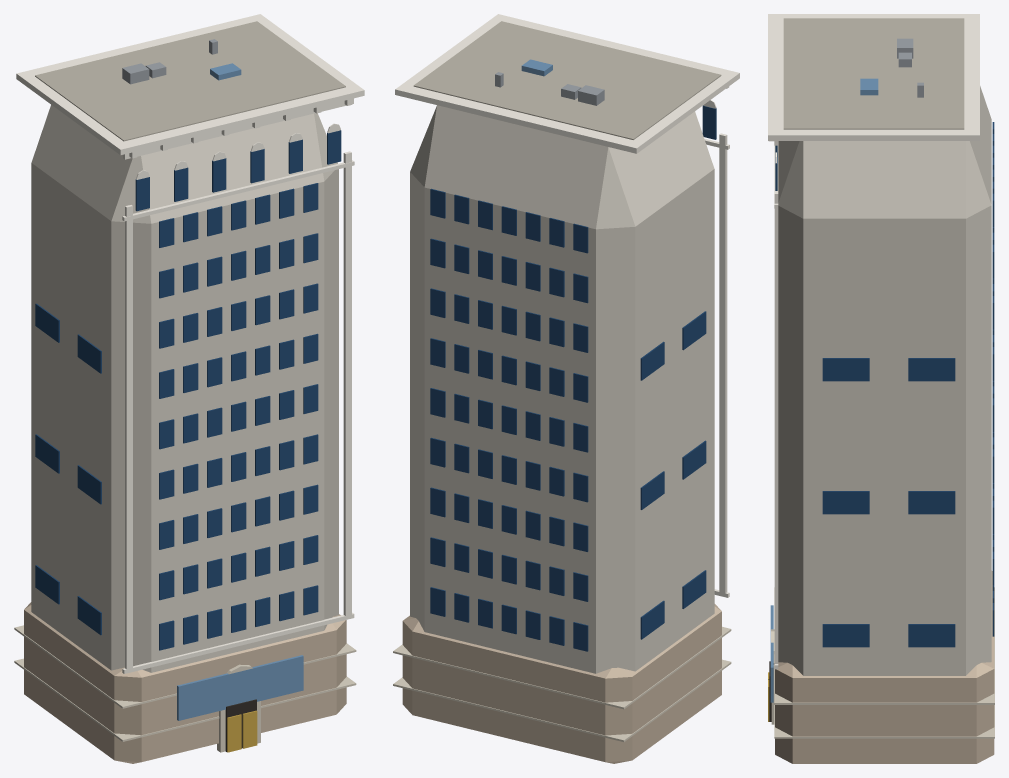
File: office_f12_punched_w18.glb
The picture shows the model from 3 angles, left to right: view 1: azimuth 30°, elevation 25°; view 2: azimuth 150°, elevation 25°; view 3: azimuth 270°, elevation 25°; orthographic projection. The views are drawn at different scales.
Parts seen in each view (by area): view 1: walls, base, roofslab, corn, baseglass, qpier.001, qpier, belt2, belt1, rustband, frieze, rustband.001 (+6 smaller); view 2: walls, base, roofslab, corn, qpier, rustband.001, rustband, sb.008, sb.002, sb.004, sb.010, sb (+1 smaller); view 3: walls, roofslab, base, corn, qpier.001, sb.001, sb.003, sb.005, sb.007, sb.009, sb.011, rustband.001 (+1 smaller).
Part boxes in pixels (x1,y1,x2,y2): walls: [31, 104, 338, 672]; base: [24, 602, 346, 763]; roofslab: [35, 21, 345, 141]; corn: [16, 14, 364, 155]; baseglass: [177, 655, 303, 720]; qpier.001: [343, 151, 351, 619]; qpier: [125, 205, 132, 673]; belt2: [122, 160, 354, 221]; belt1: [122, 612, 354, 673]; rustband: [14, 658, 356, 741]; frieze: [123, 98, 353, 159]; rustband.001: [14, 625, 356, 708]; walls: [410, 105, 714, 673]; base: [402, 604, 721, 763]; roofslab: [413, 21, 721, 139]; corn: [395, 14, 739, 153]; qpier: [719, 133, 727, 596]; rustband.001: [393, 626, 731, 709]; rustband: [393, 659, 731, 741]; sb.008: [682, 311, 706, 350]; sb.002: [640, 600, 664, 639]; sb.004: [682, 440, 706, 479]; sb.010: [640, 341, 664, 380]; sb: [682, 570, 706, 608]; walls: [778, 86, 991, 675]; roofslab: [783, 18, 964, 129]; base: [775, 571, 994, 763]; corn: [768, 14, 979, 140]; qpier.001: [774, 191, 778, 663]; sb.001: [822, 624, 869, 647]; sb.003: [908, 624, 955, 647]; sb.005: [822, 491, 869, 514]; sb.007: [908, 491, 955, 514]; sb.009: [822, 358, 869, 381]; sb.011: [908, 358, 955, 381]; rustband.001: [774, 587, 994, 704].
Bounding box in the file's own units: 19.3 × 48.5 × 15.28.
